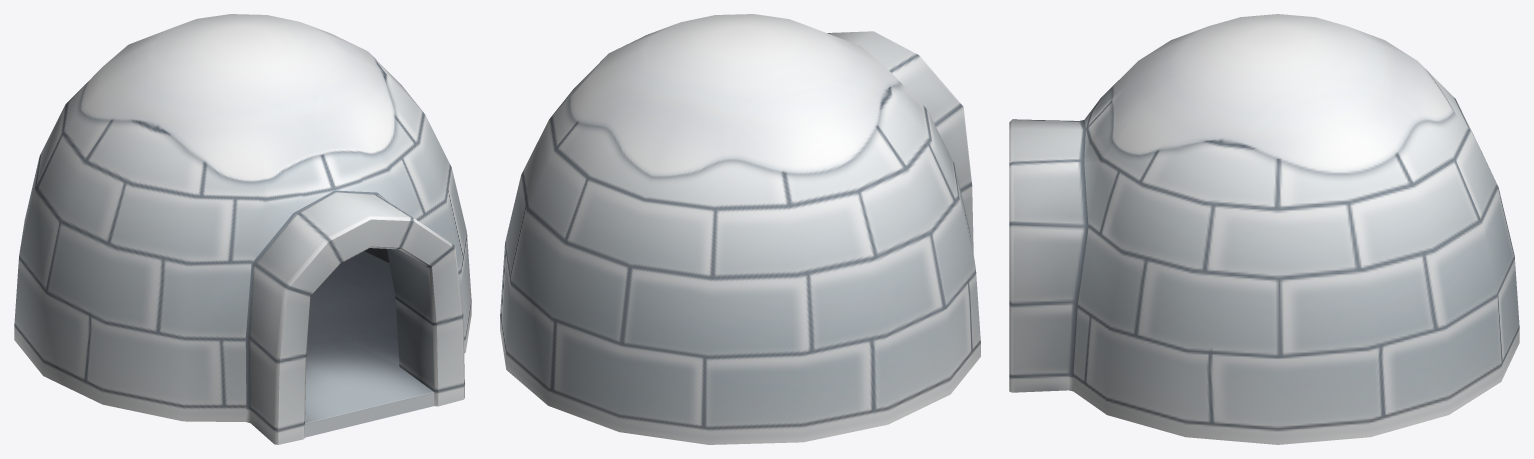
Rendered from igloo.FBX.
3 renders of one model, left to right at view 1: azimuth 30°, elevation 25°; view 2: azimuth 150°, elevation 25°; view 3: azimuth 270°, elevation 25°, orthographic. The views are drawn at different scales.
Parts seen in each view (by area): view 1: igloo; view 2: igloo; view 3: igloo.
Boxes of the visible parts, x1,y1,x2,y2 form: igloo: (14, 14, 471, 444); igloo: (500, 14, 980, 444); igloo: (1009, 14, 1519, 444).
Size of the model in its own units: 47.23 by 32.75 by 49.85.
